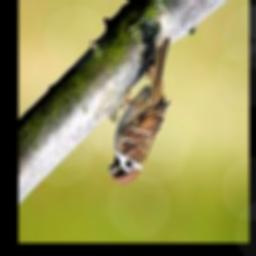Sparrow: (108, 37, 169, 183)
